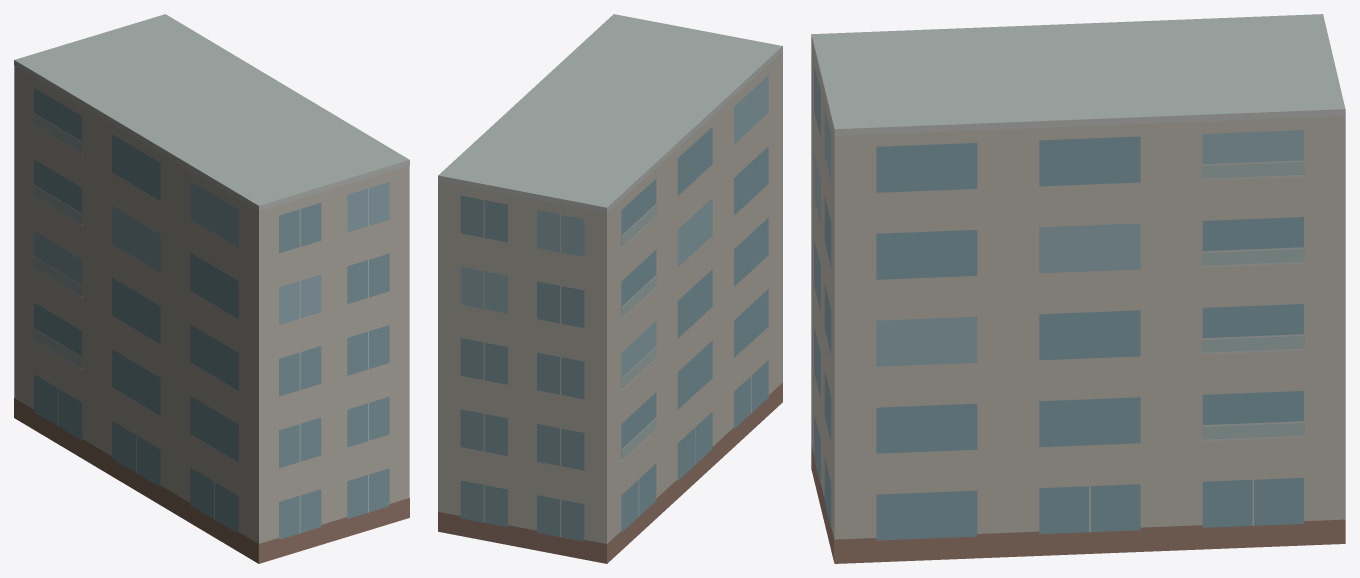
The model's file is survey-upis-32638639.glb.
3 renders of one model, left to right at view 1: azimuth 30°, elevation 25°; view 2: azimuth 150°, elevation 25°; view 3: azimuth 270°, elevation 25°, orthographic. The views are drawn at different scales.
Visible parts, largest first — view 1: survey-upis-32638639.tmp; view 2: survey-upis-32638639.tmp; view 3: survey-upis-32638639.tmp.
Part boxes in pixels (x1,y1,x2,y2): survey-upis-32638639.tmp: (14, 14, 409, 563); survey-upis-32638639.tmp: (438, 14, 782, 563); survey-upis-32638639.tmp: (811, 14, 1345, 563).
Size of the model in its own units: 8.93 by 15.7 by 17.49.
